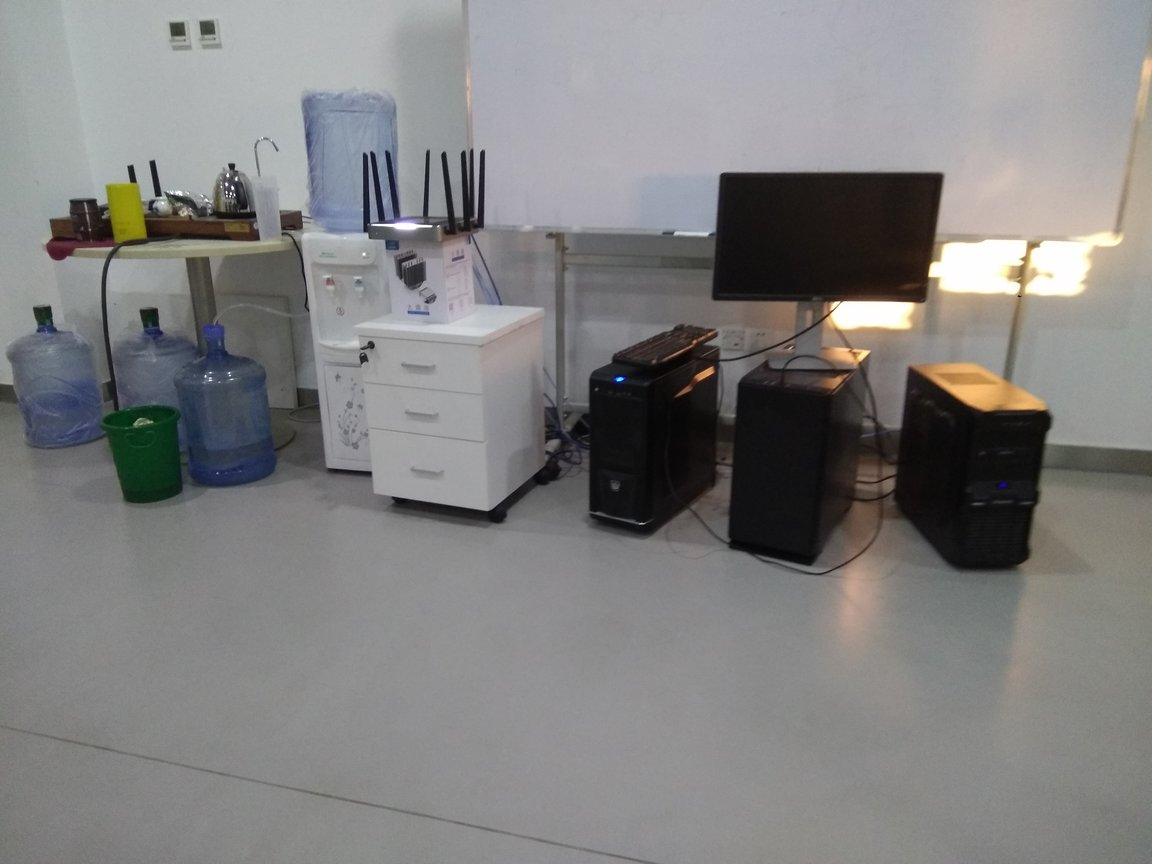computer: (895, 359, 1038, 584), (727, 334, 856, 573), (585, 338, 726, 544)
drawer chest: (352, 298, 553, 528)
monitor: (717, 164, 945, 373)
scuttlebutt: (112, 308, 230, 480), (293, 80, 410, 251), (174, 323, 283, 490), (10, 301, 118, 448)
water dispenser: (297, 221, 416, 487)
